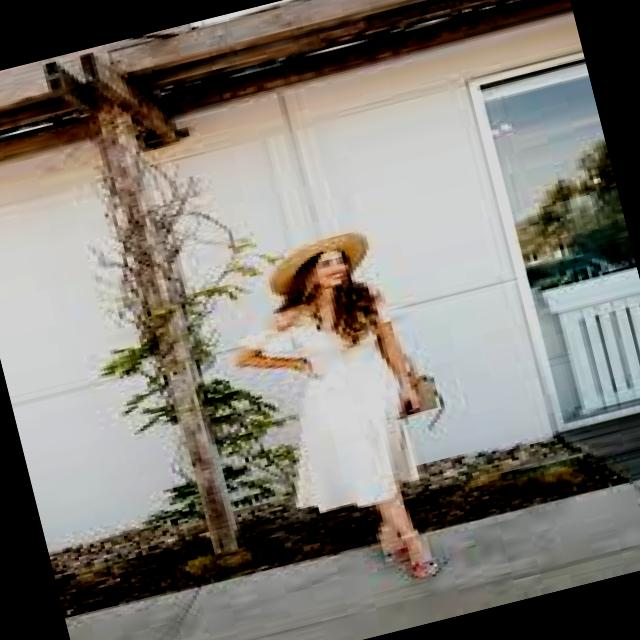dress: (240, 318, 418, 513)
hat: (268, 232, 367, 296)
